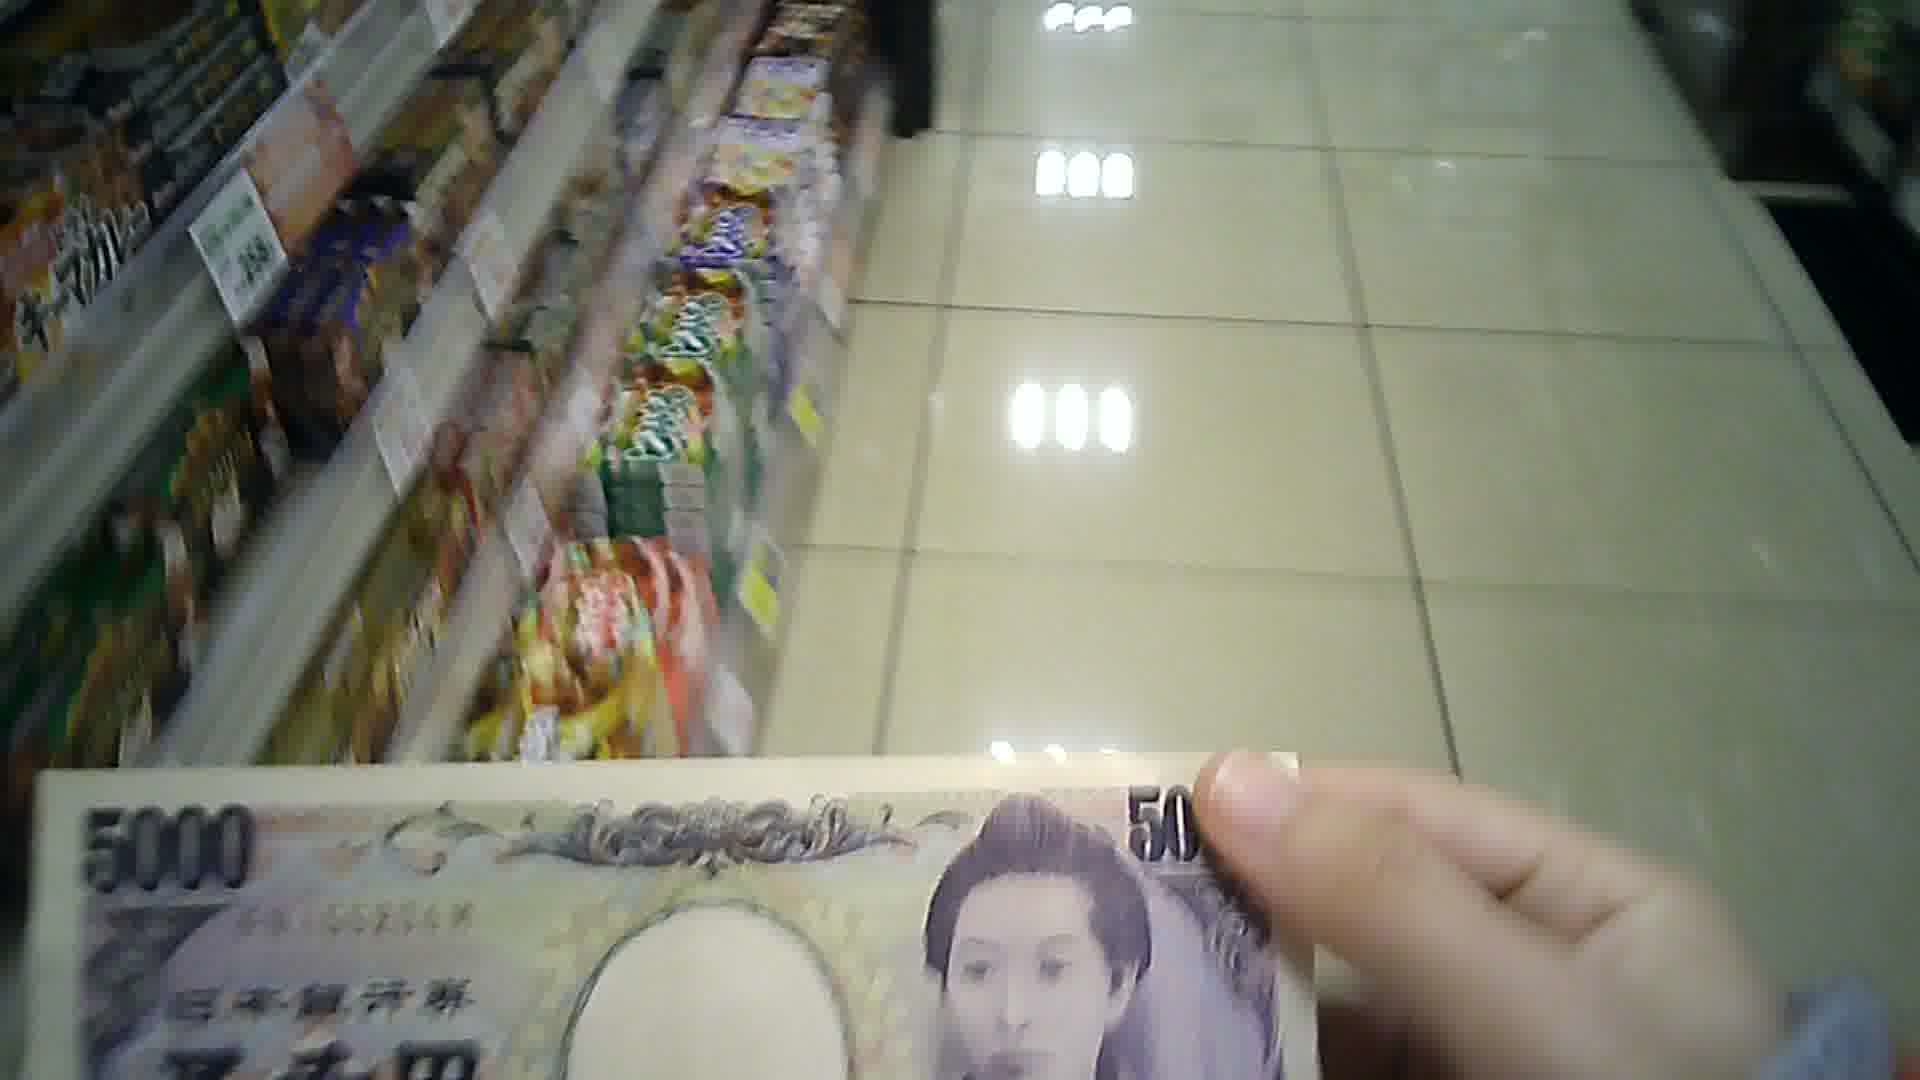5,000 Yen: (18, 720, 1294, 1079)
